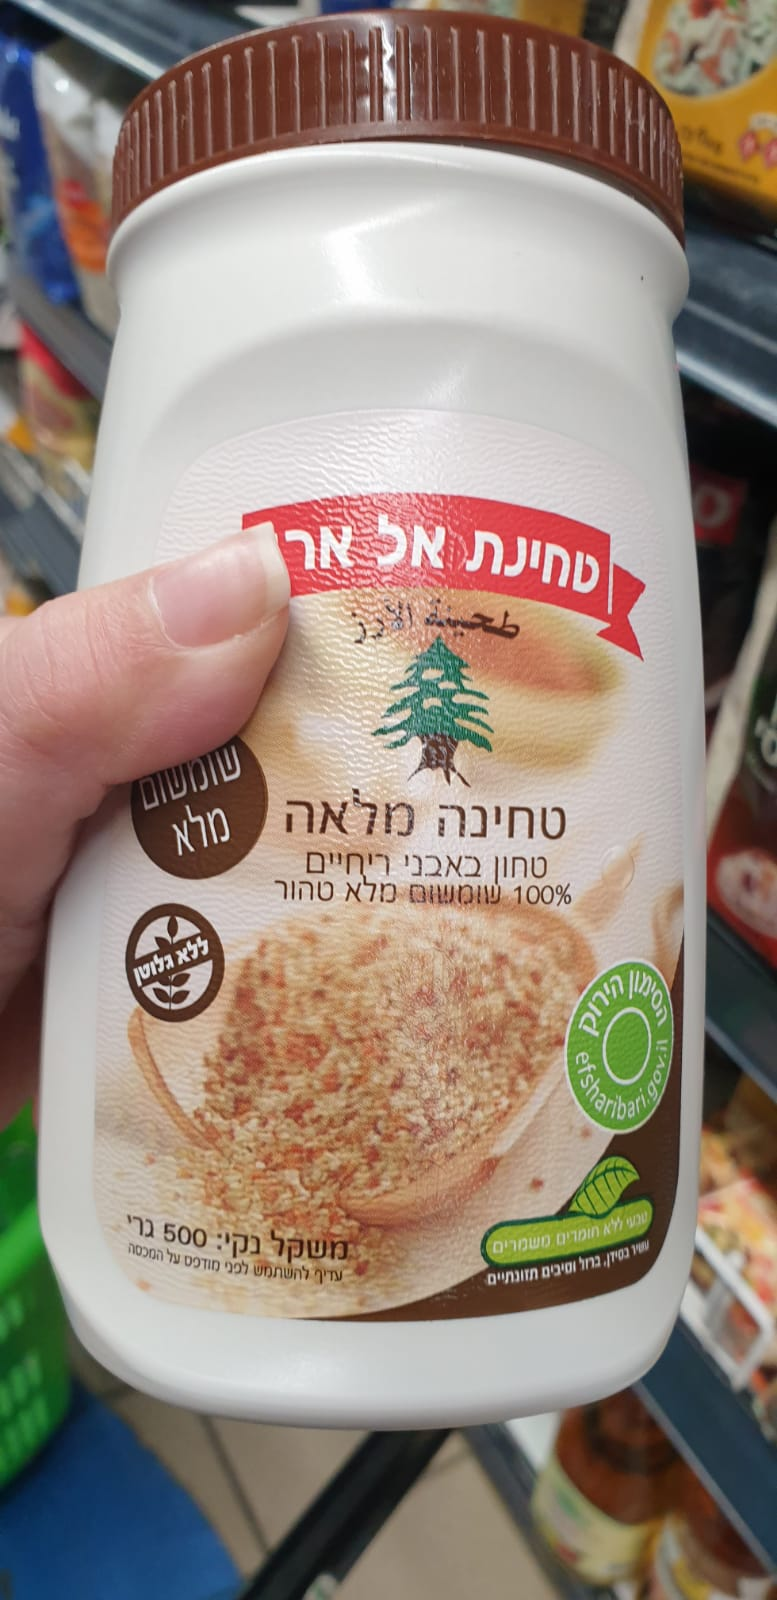green: (562, 958, 674, 1135)
